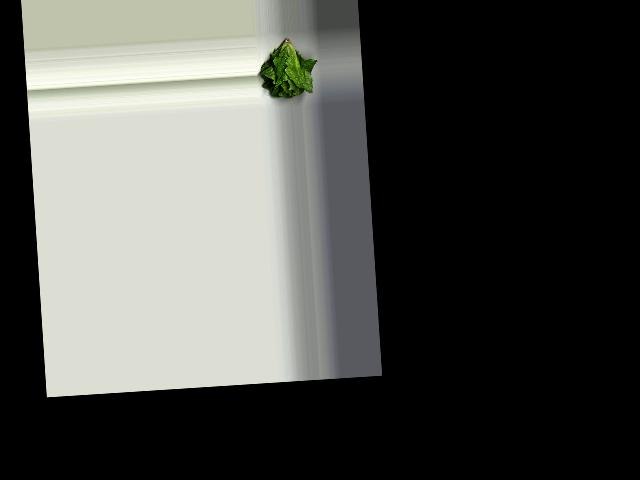lettuce: (258, 34, 313, 103)
